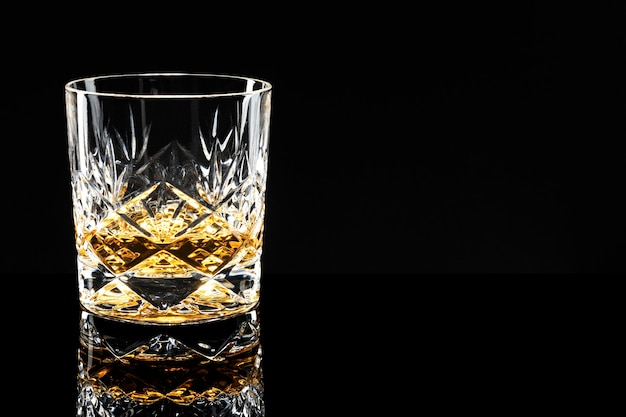alcohol: (62, 70, 275, 326)
